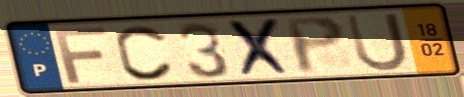3: (176, 19, 232, 81)
C: (113, 22, 177, 83)
F: (51, 25, 110, 85)
P: (281, 14, 349, 76)
U: (342, 11, 412, 74)
X: (224, 15, 297, 79)
